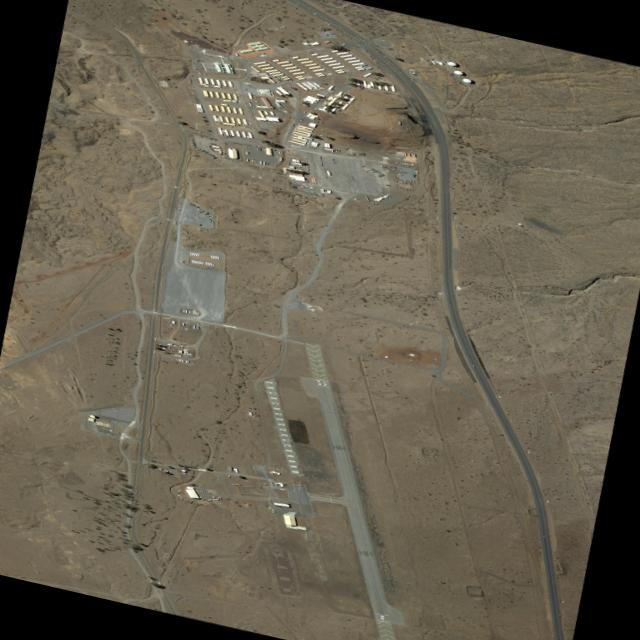large-vehicle: (197, 209, 204, 211), (199, 148, 204, 150), (202, 150, 207, 152), (207, 153, 212, 155), (209, 154, 214, 156), (190, 141, 195, 143), (245, 152, 249, 154), (209, 147, 213, 149), (201, 149, 205, 151), (206, 152, 210, 154), (197, 207, 201, 209), (190, 139, 194, 141), (207, 144, 210, 146), (211, 156, 217, 157), (191, 144, 196, 145), (203, 151, 208, 152), (208, 154, 213, 155), (210, 155, 215, 156), (178, 344, 183, 345), (191, 143, 195, 144), (192, 145, 196, 146), (190, 142, 194, 143), (190, 141, 194, 142), (189, 137, 193, 138), (190, 140, 194, 141), (190, 138, 193, 139)
small-vehicle: (296, 165, 302, 167), (298, 163, 303, 165), (106, 476, 111, 478), (193, 66, 197, 68), (302, 141, 306, 143), (176, 209, 180, 211), (190, 84, 194, 86), (261, 51, 265, 53), (274, 75, 278, 77), (269, 74, 273, 76), (299, 118, 303, 120), (243, 87, 247, 89), (243, 86, 247, 88), (324, 20, 328, 22), (211, 495, 214, 497), (280, 467, 283, 469), (266, 469, 269, 471), (227, 474, 230, 476), (243, 101, 246, 103), (228, 135, 231, 137), (222, 154, 225, 156), (219, 160, 222, 162), (179, 454, 182, 456), (256, 414, 259, 416), (389, 59, 392, 61), (378, 50, 381, 52), (383, 54, 386, 56), (371, 56, 374, 58), (557, 612, 560, 614), (261, 109, 264, 111), (179, 201, 182, 203), (360, 36, 363, 38), (190, 39, 193, 41), (331, 25, 334, 27), (328, 23, 331, 25), (314, 11, 317, 13), (322, 102, 325, 104), (338, 108, 341, 110), (318, 96, 321, 98), (319, 105, 322, 107), (315, 105, 318, 107), (198, 496, 203, 497), (216, 86, 221, 87), (325, 139, 329, 140), (406, 165, 410, 166), (398, 173, 402, 174), (401, 186, 403, 188), (295, 481, 299, 482), (107, 477, 111, 478), (107, 478, 111, 479), (266, 161, 268, 163), (303, 140, 307, 141), (194, 68, 198, 69), (206, 121, 210, 122), (221, 154, 225, 155), (220, 161, 224, 162), (206, 498, 208, 500), (201, 489, 203, 491), (196, 492, 200, 493), (193, 66, 197, 67), (6, 334, 10, 335), (181, 457, 185, 458), (256, 413, 260, 414), (472, 364, 474, 366), (363, 49, 367, 50), (186, 322, 188, 324), (274, 148, 276, 150), (225, 135, 227, 137), (307, 138, 311, 139), (178, 206, 182, 207), (178, 207, 182, 208), (177, 208, 181, 209), (191, 61, 195, 62), (335, 28, 339, 29), (276, 75, 280, 76), (303, 110, 305, 112), (243, 88, 247, 89), (226, 53, 228, 55), (210, 47, 212, 49), (278, 79, 282, 80), (277, 78, 281, 79), (276, 78, 280, 79), (275, 77, 279, 78), (274, 76, 278, 77), (272, 147, 275, 148), (325, 140, 328, 141), (408, 188, 411, 189), (299, 167, 302, 168), (382, 176, 385, 177), (266, 471, 269, 472), (192, 87, 195, 88), (207, 123, 210, 124), (314, 138, 317, 139), (311, 136, 314, 137), (220, 135, 223, 136), (223, 157, 226, 158), (213, 495, 216, 496), (193, 65, 196, 66), (195, 488, 198, 489), (202, 498, 205, 499), (209, 492, 212, 493), (197, 492, 200, 493), (193, 64, 196, 65), (334, 41, 337, 42), (379, 63, 382, 64), (373, 58, 376, 59), (332, 88, 335, 89), (242, 124, 245, 125), (178, 204, 181, 205), (178, 208, 181, 209), (338, 30, 341, 31), (273, 75, 276, 76), (268, 74, 271, 75), (347, 90, 350, 91), (326, 22, 329, 23), (359, 75, 362, 76), (346, 90, 349, 91), (318, 96, 321, 97), (321, 104, 324, 105), (314, 107, 317, 108), (183, 500, 185, 501), (273, 152, 274, 154), (241, 138, 243, 139), (230, 159, 232, 160), (249, 139, 251, 140), (204, 498, 206, 499), (199, 490, 201, 491), (178, 456, 180, 457), (381, 64, 383, 65), (368, 53, 370, 54), (376, 48, 378, 49), (188, 322, 190, 323), (227, 135, 228, 137), (232, 135, 234, 136), (238, 123, 240, 124), (223, 55, 225, 56), (215, 48, 217, 49), (193, 39, 195, 40), (201, 65, 203, 66), (290, 79, 292, 80), (543, 534, 544, 535), (185, 322, 186, 323), (194, 323, 195, 324)
storage-tank: (452, 68, 463, 74), (461, 76, 472, 82), (446, 59, 456, 65), (89, 413, 95, 417), (181, 468, 185, 471)
